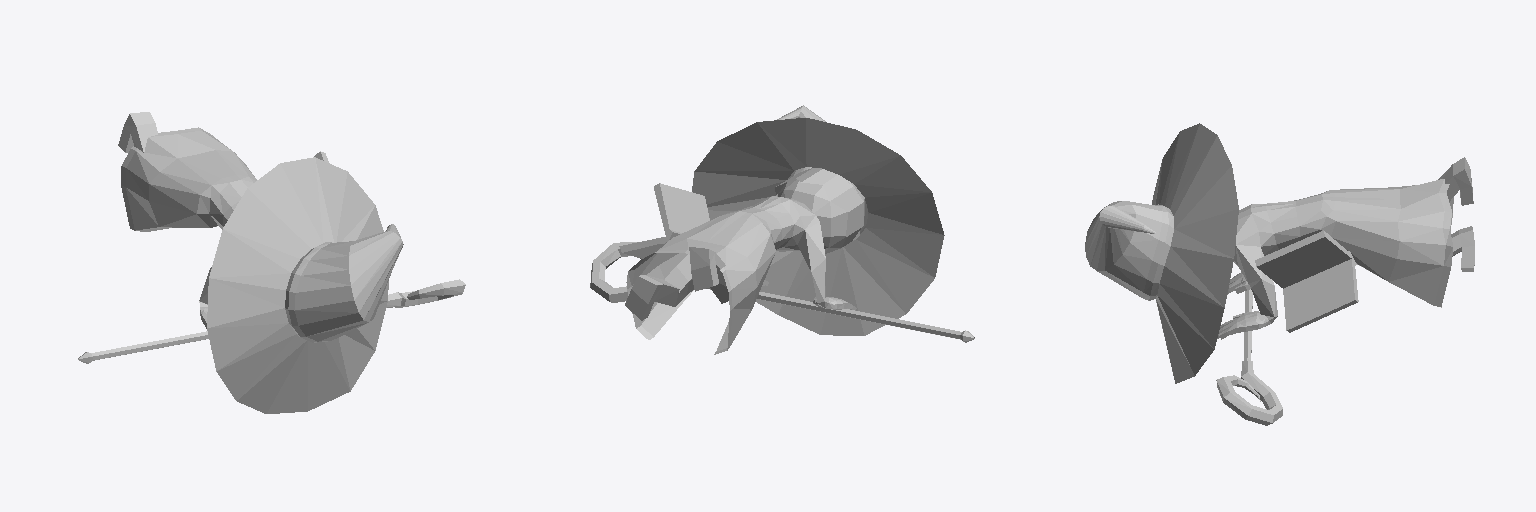
File: wizard_defend.obj
The picture shows the model from 3 angles: view 1: azimuth 30°, elevation 25°; view 2: azimuth 150°, elevation 25°; view 3: azimuth 270°, elevation 25°; orthographic projection.
Parts seen in each view (by area): view 1: Cube.018_wizard; view 2: Cube.018_wizard; view 3: Cube.018_wizard.
Boxes of the visible parts, box(x1,y1,x2,y2) form: Cube.018_wizard: box(78, 112, 465, 413); Cube.018_wizard: box(590, 105, 974, 354); Cube.018_wizard: box(1085, 123, 1474, 425).
Bounding box in the file's own units: 11.08 × 6.48 × 9.76.